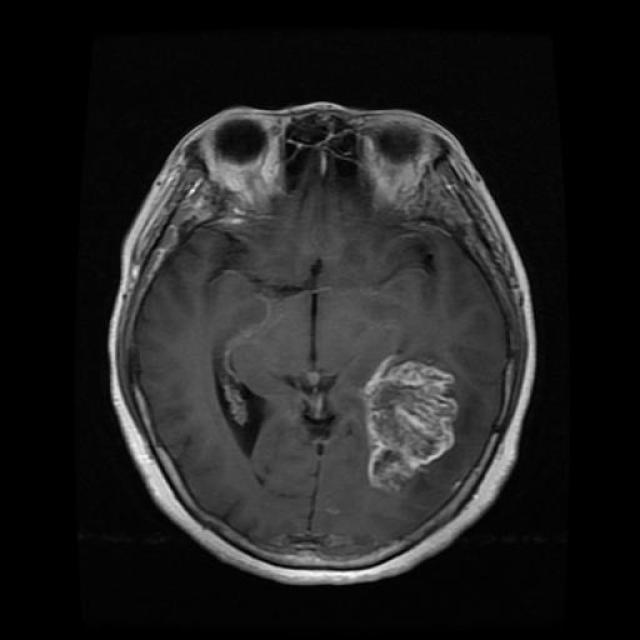brain_tumor: (364, 355, 459, 491)
